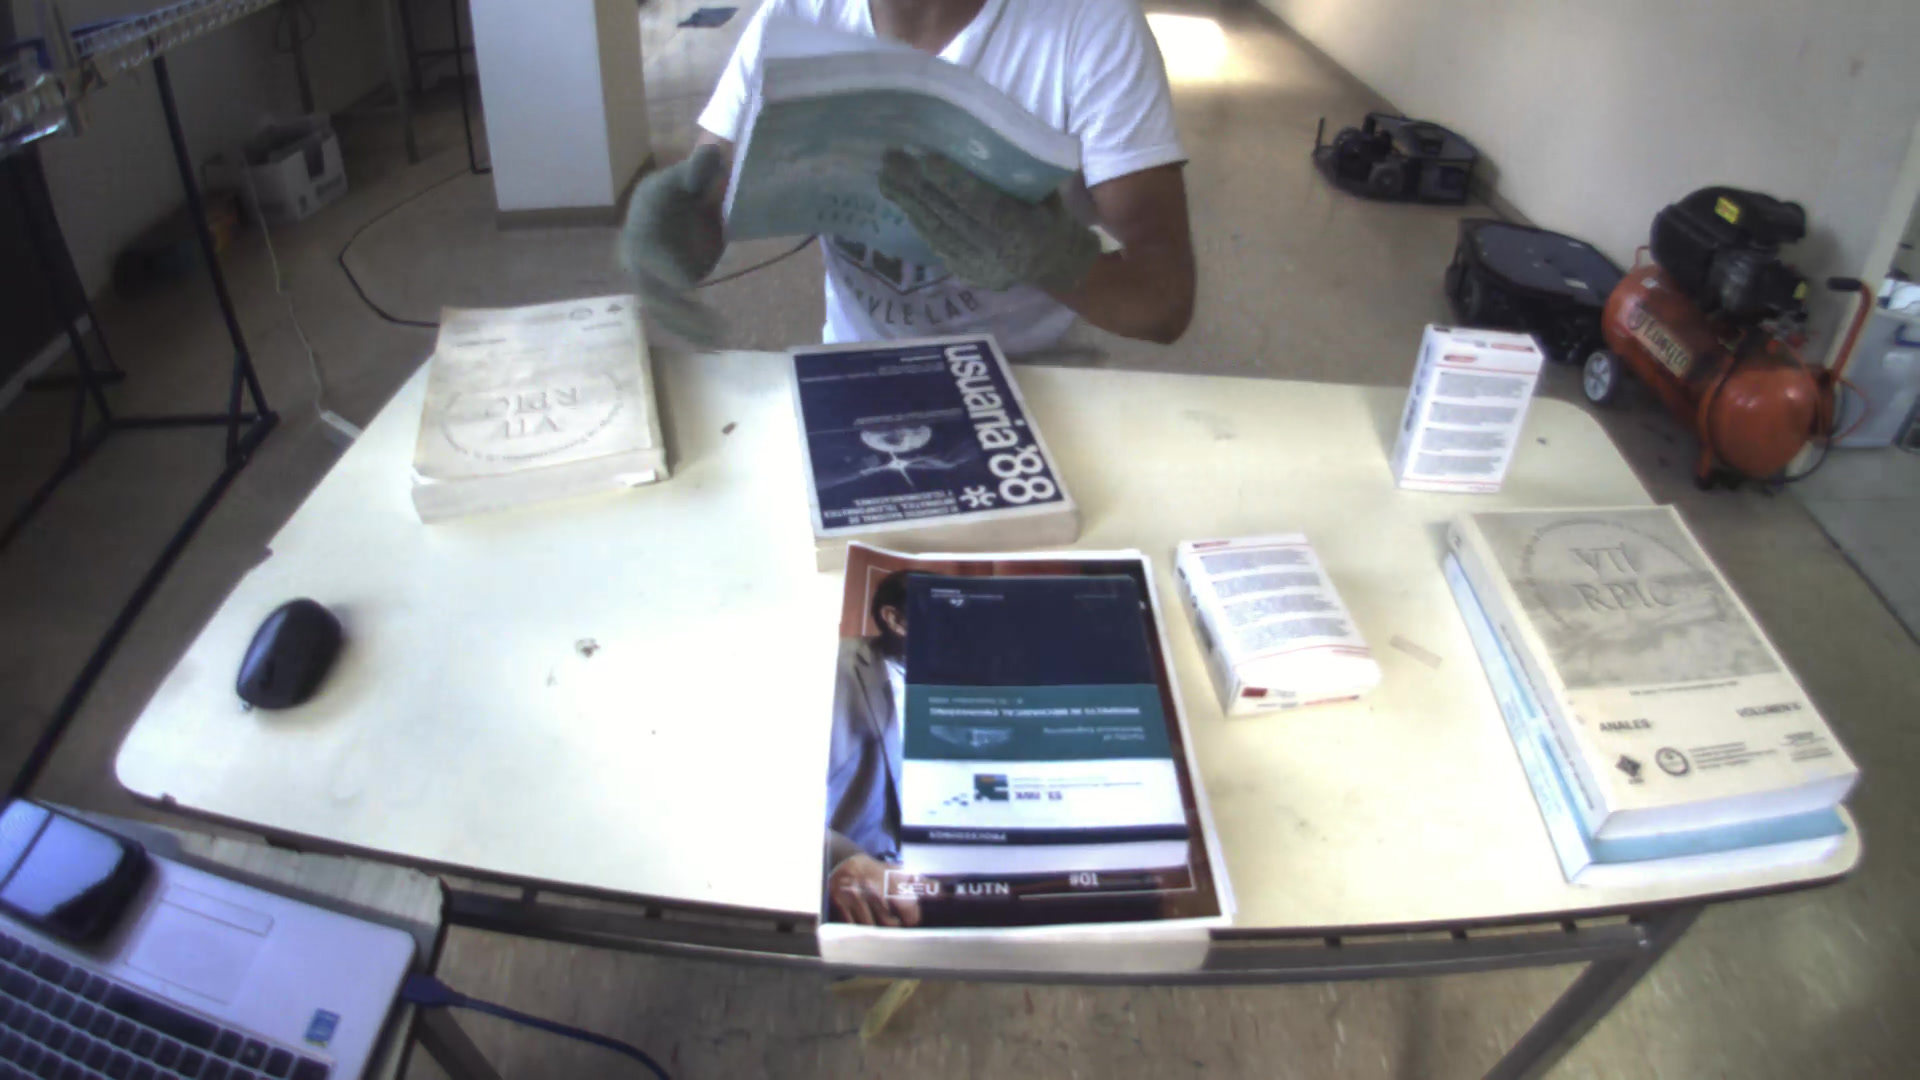hand: (868, 133, 1091, 302), (611, 138, 740, 359)
